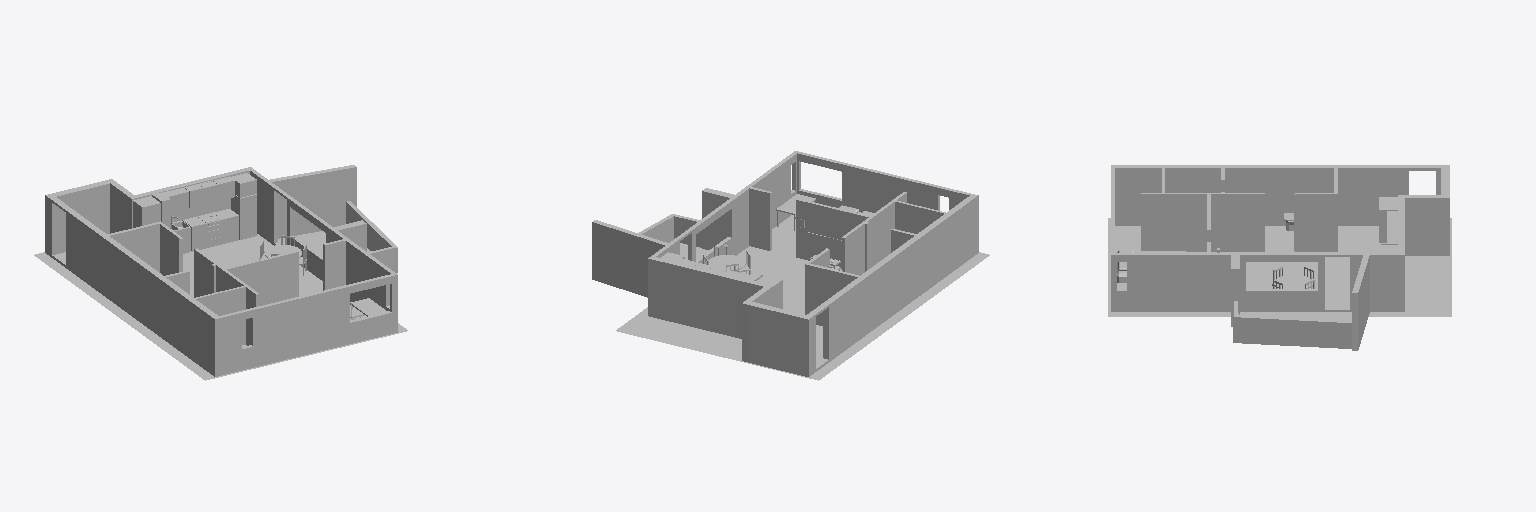
Rendered from OttoBrandt_2019-01-02.obj.
3 views of the same model, side by side, from view 1: azimuth 30°, elevation 25°; view 2: azimuth 150°, elevation 25°; view 3: azimuth 270°, elevation 25° (orthographic).
Visible parts, largest first — view 1: wall_outer_Cube, wall_internal_Cube.013, Plane, kitchen05.001_Cube.014, kitchen07_Cube.005, kitchen01_fridge_Cube.011, kitchen06_Cube.006, kitchen_table_Cube.004, kitchen04_Cube.008; view 2: wall_outer_Cube, wall_internal_Cube.013, Plane, bedroom_desk.001_Cube.016, kitchen_table_Cube.004; view 3: wall_outer_Cube, wall_internal_Cube.013, Plane, kitchen_table_Cube.004.
Part boxes in pixels (x1,y1,x2,y2): wall_outer_Cube: (45, 165, 397, 376); wall_internal_Cube.013: (107, 221, 345, 345); Plane: (34, 231, 407, 380); kitchen05.001_Cube.014: (163, 176, 234, 212); kitchen07_Cube.005: (231, 194, 256, 239); kitchen01_fridge_Cube.011: (133, 196, 160, 227); kitchen06_Cube.006: (213, 209, 238, 243); kitchen_table_Cube.004: (259, 235, 306, 275); kitchen04_Cube.008: (182, 217, 206, 251); wall_outer_Cube: (592, 151, 978, 376); wall_internal_Cube.013: (749, 187, 945, 325); Plane: (616, 215, 989, 380); bedroom_desk.001_Cube.016: (806, 232, 841, 270); kitchen_table_Cube.004: (703, 245, 750, 274); wall_outer_Cube: (1111, 165, 1449, 350); wall_internal_Cube.013: (1141, 168, 1337, 253); Plane: (1108, 218, 1451, 320); kitchen_table_Cube.004: (1272, 266, 1314, 288).
Bounding box in the file's own units: 9.9 × 2.03 × 10.78.